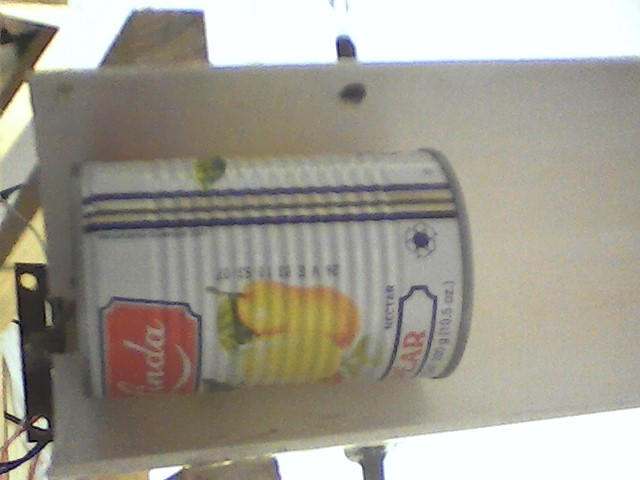lata: (64, 138, 484, 413)
